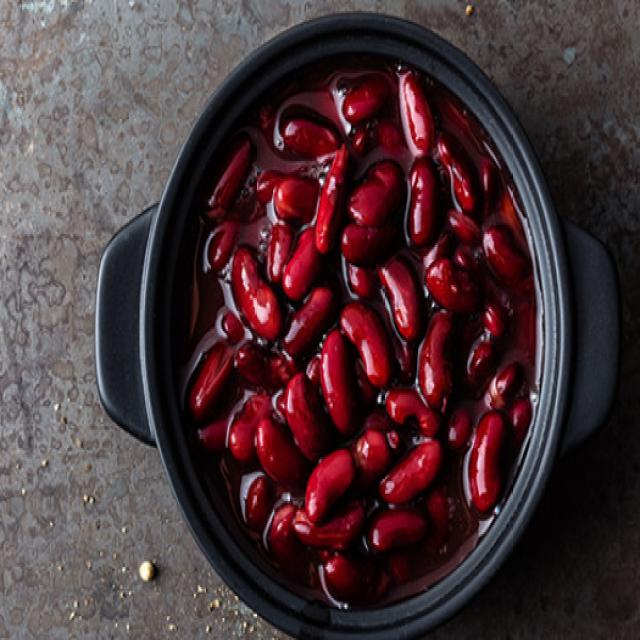frijoles: (160, 55, 554, 619)
